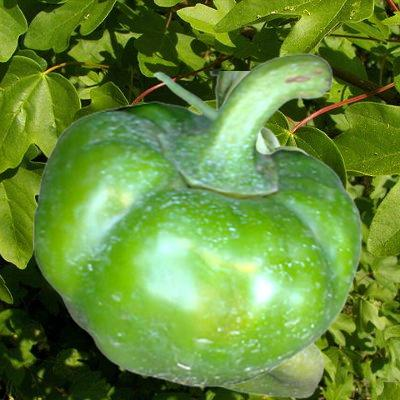bell_pepper: (33, 52, 361, 386), (207, 71, 323, 397)
